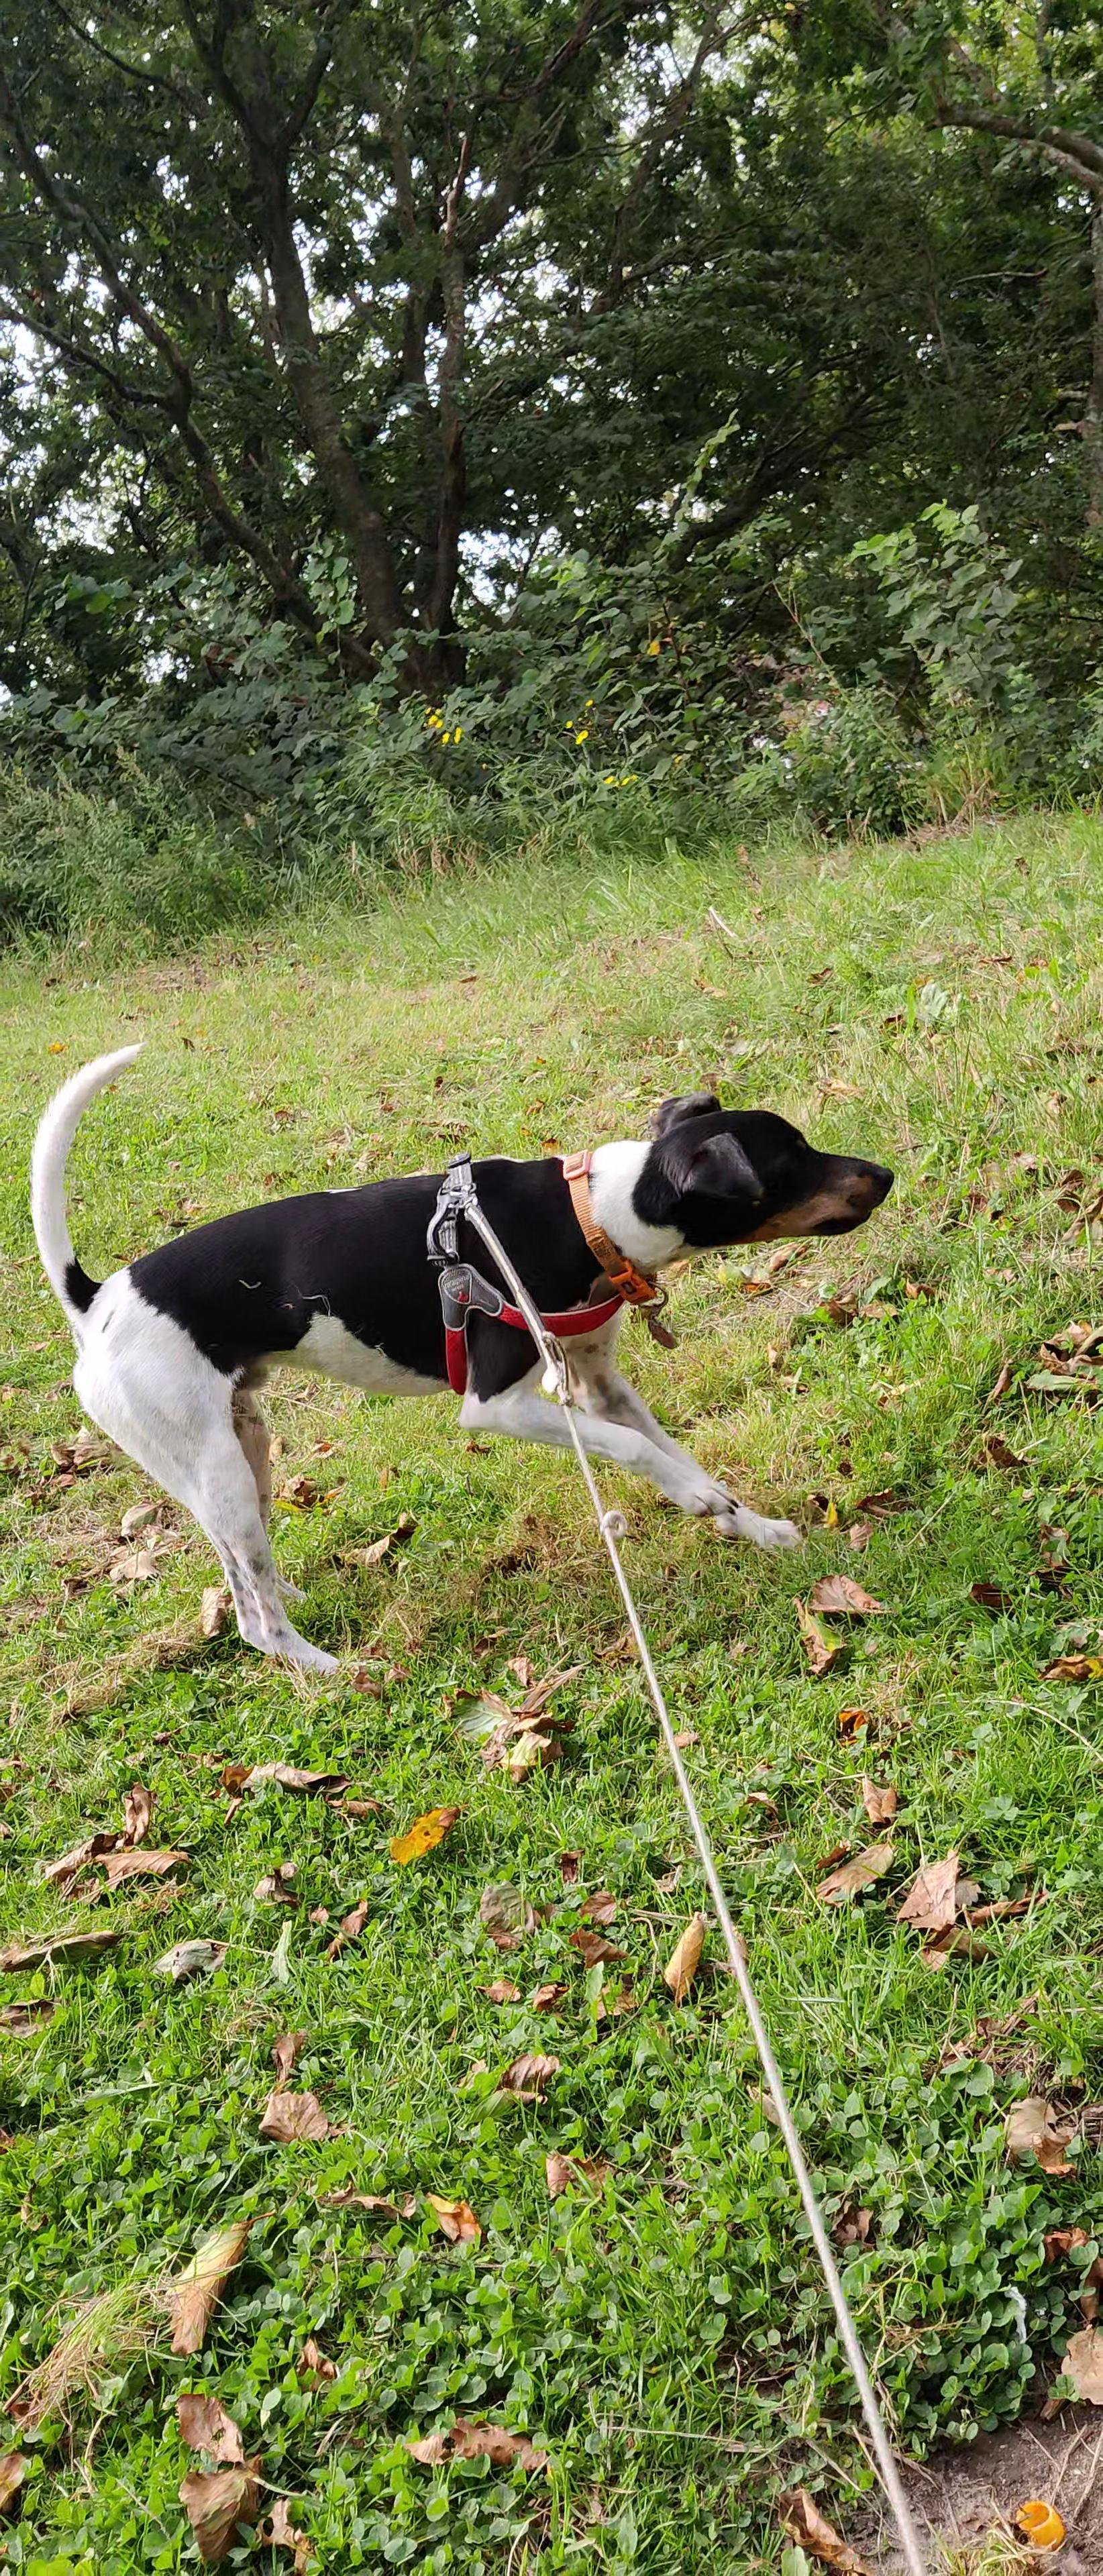Dog: (16, 1040, 904, 1677)
